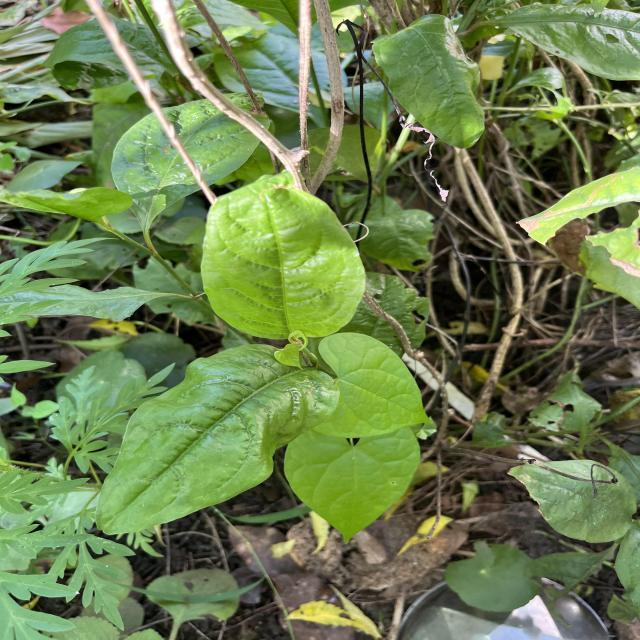Plumbago indica: (92, 340, 342, 538), (199, 170, 369, 346)
